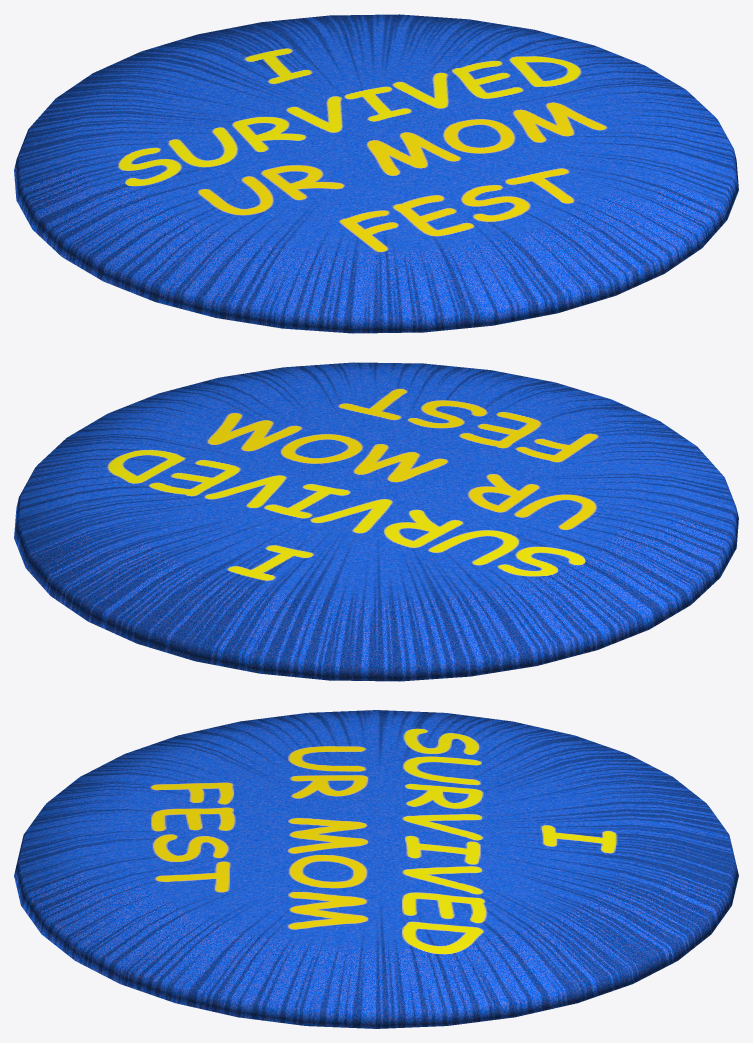
File: urmom.fbx
3 renders of one model, top to bottom at view 1: azimuth 30°, elevation 25°; view 2: azimuth 150°, elevation 25°; view 3: azimuth 270°, elevation 25°, orthographic.
Visible parts, largest first — view 1: Cylinder; view 2: Cylinder; view 3: Cylinder.
Boxes of the visible parts, x1=… form: Cylinder: x1=14, y1=14, x2=738, y2=333; Cylinder: x1=14, y1=362, x2=738, y2=681; Cylinder: x1=14, y1=710, x2=738, y2=1028.
Size of the model in its own units: 202 by 14.11 by 202.
1 material, 1 textured.
